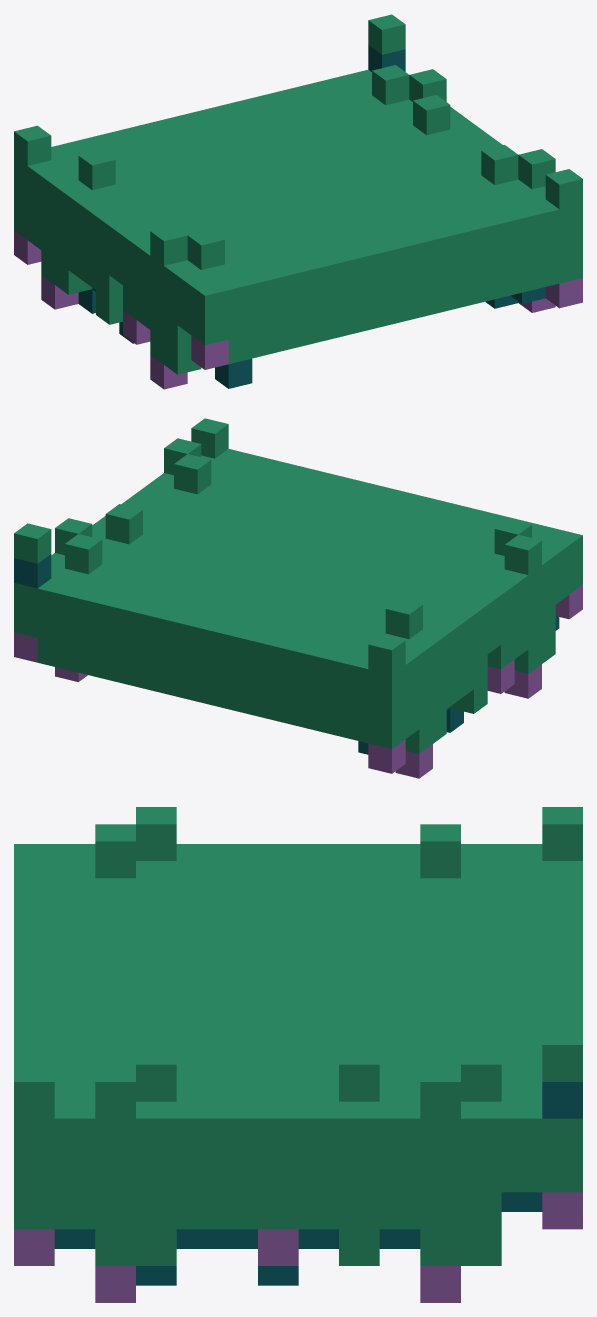
Rendered from sueloPlataform-2.obj.
3 views of the same model, one above another, from view 1: azimuth 30°, elevation 25°; view 2: azimuth 150°, elevation 25°; view 3: azimuth 270°, elevation 25° (orthographic). The views are drawn at different scales.
Size of the model in its own units: 1.6 by 0.7 by 1.4.
Materials: 1 (1 with a texture image).
